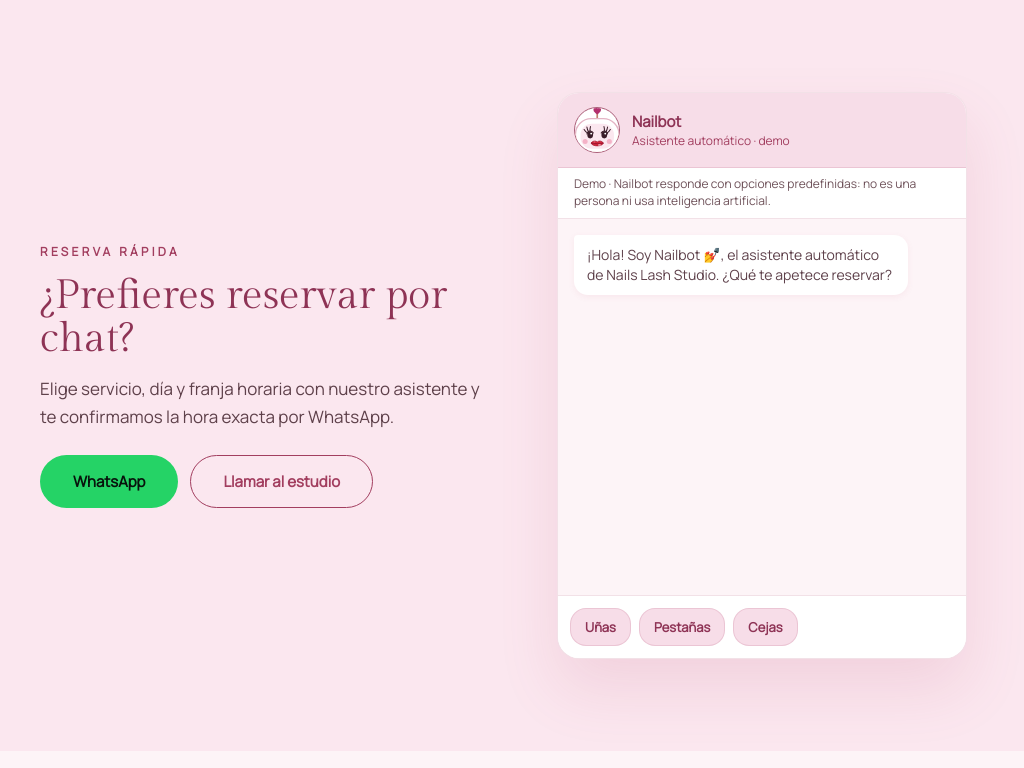
Scenario: @s11 elegir una opción añade mi respuesta y encadena la siguiente pregunta › @s11 al pulsar "Uñas" el hilo pasa a tener EXACTAMENTE tres burbujas y cambian las opciones visibles
Click the button "Uñas".
click(600, 627)  # box [570,608,631,646]
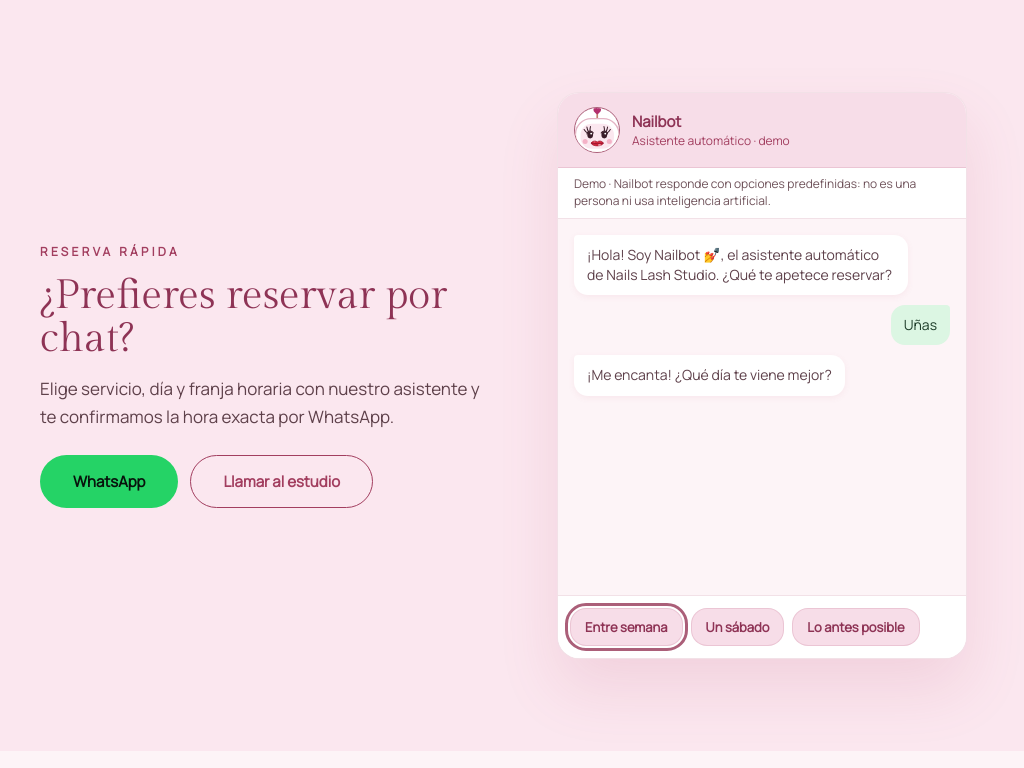
Expected: the buttons read "Entre semana", "Un sábado", "Lo antes posible", in this order, [570,608,682,646]; [690,608,784,646]; [792,608,920,646]
